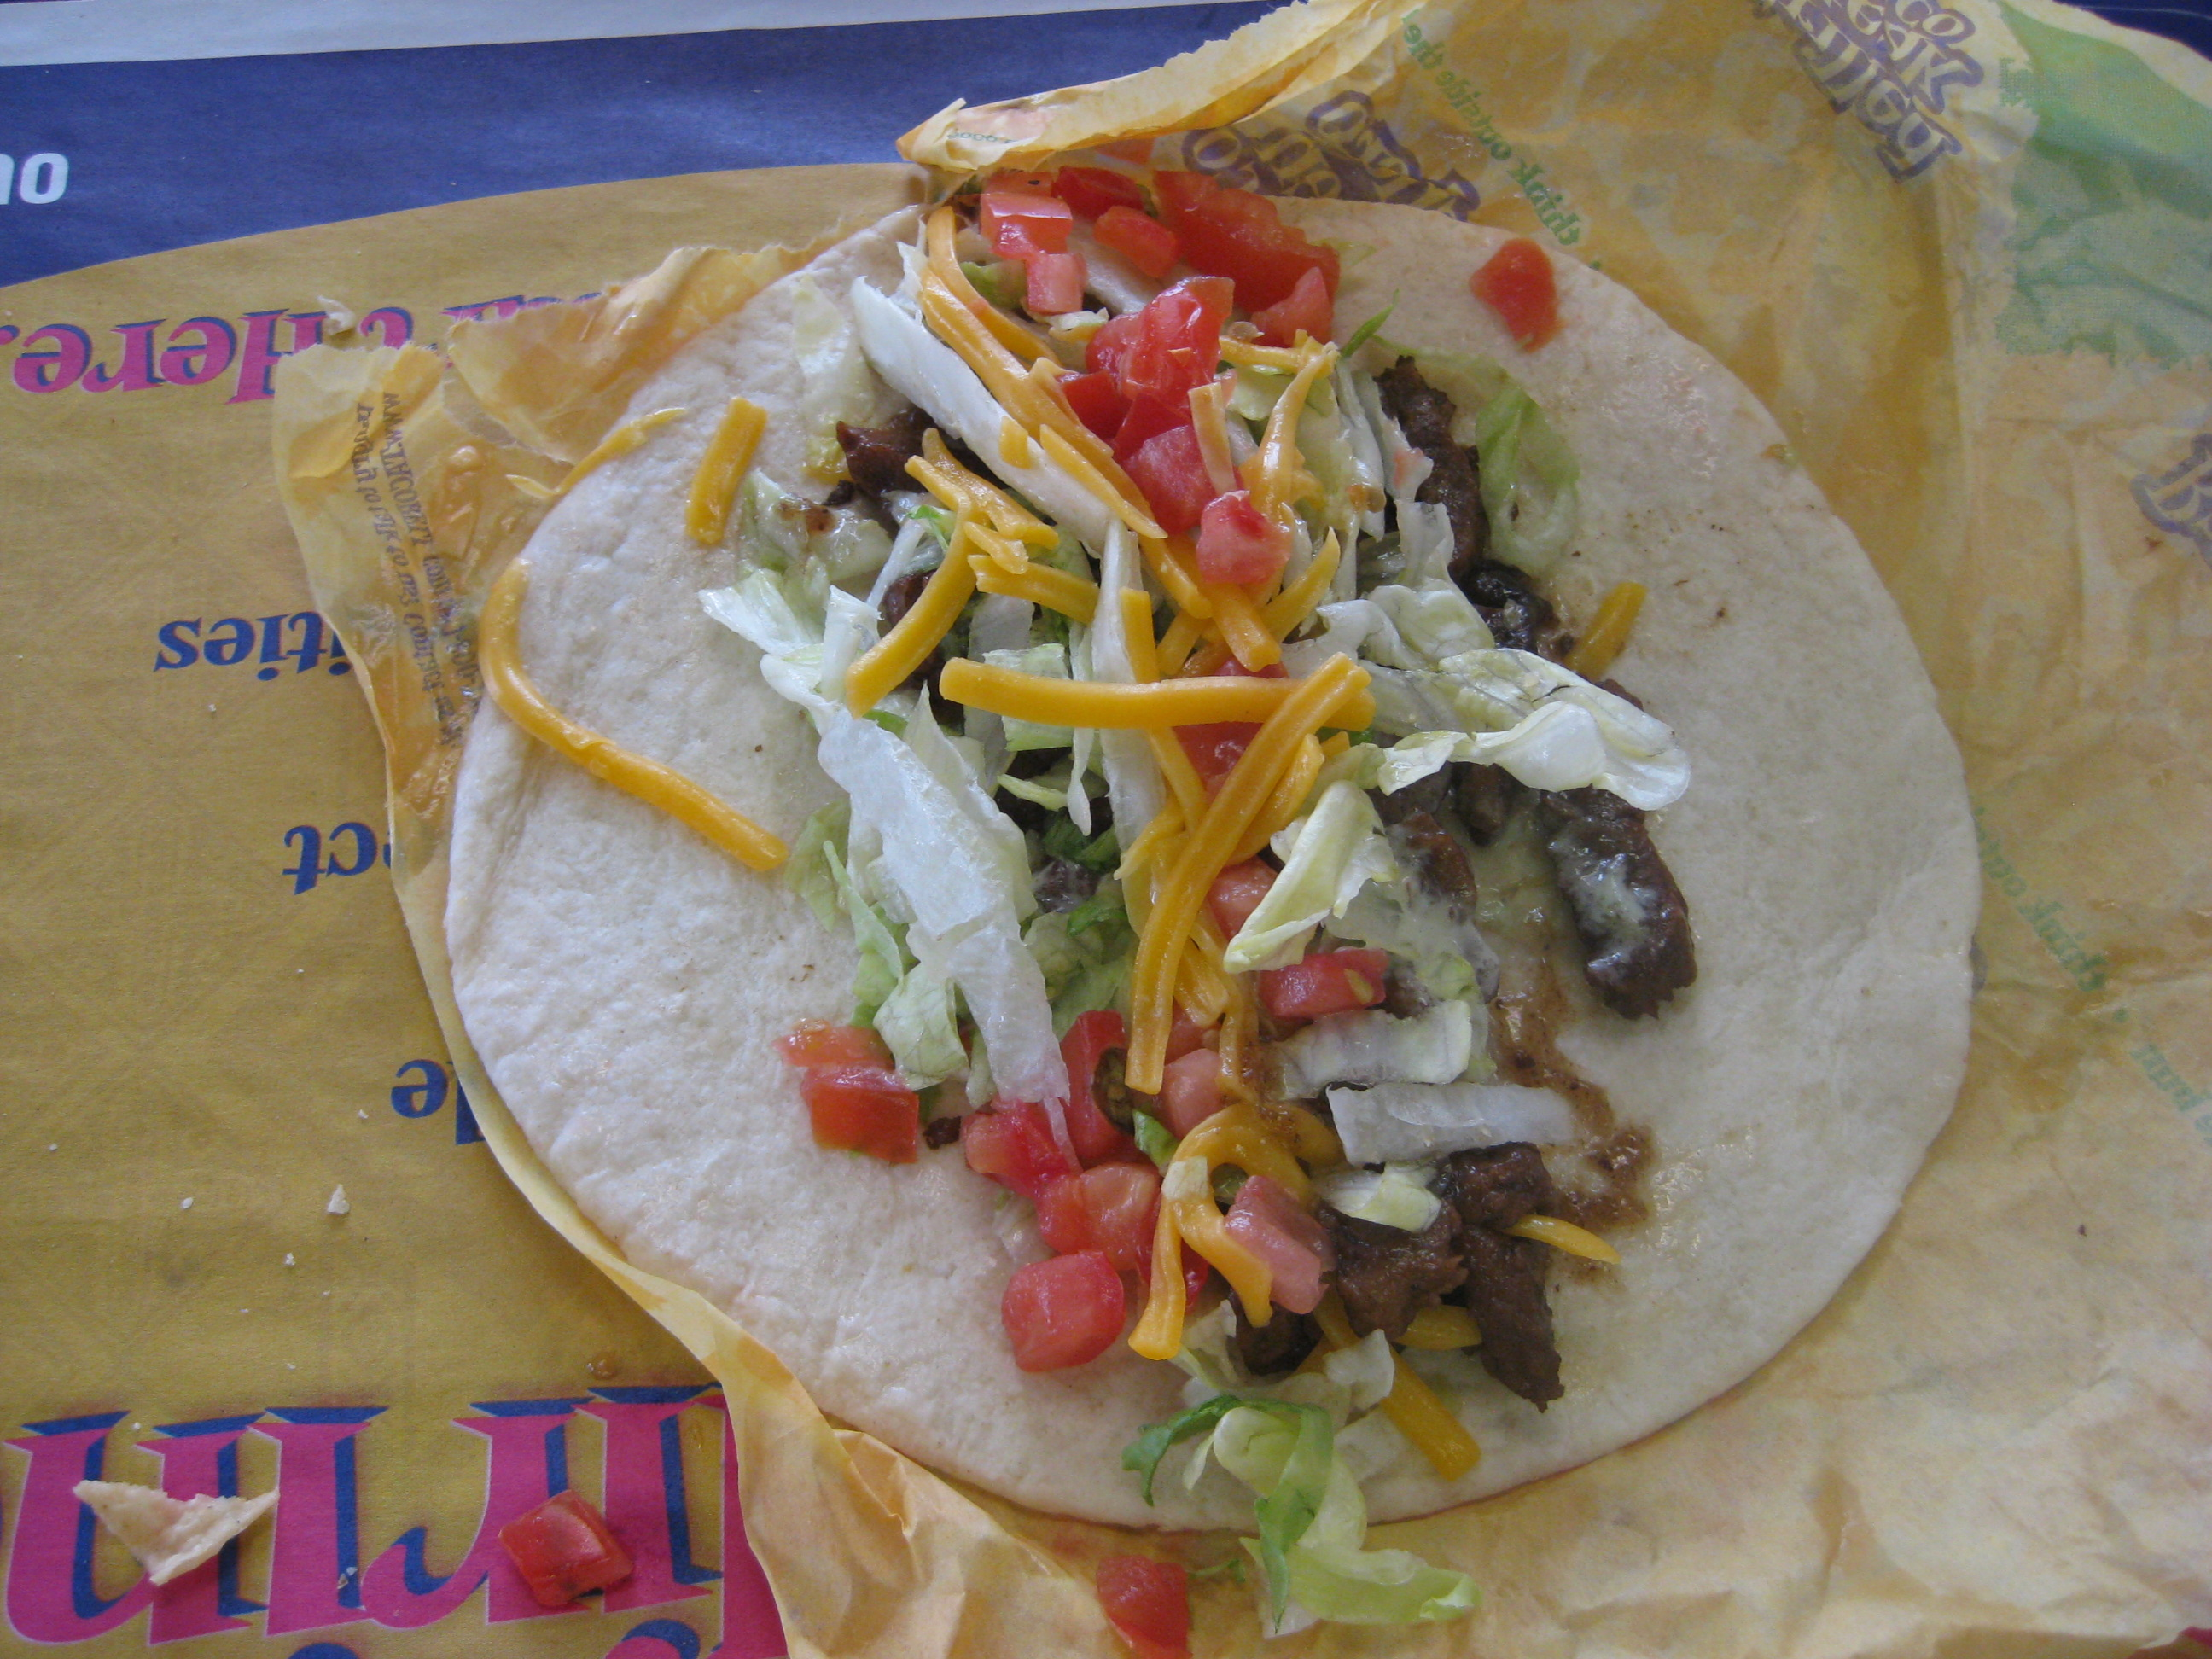taco: (498, 134, 1999, 1510)
